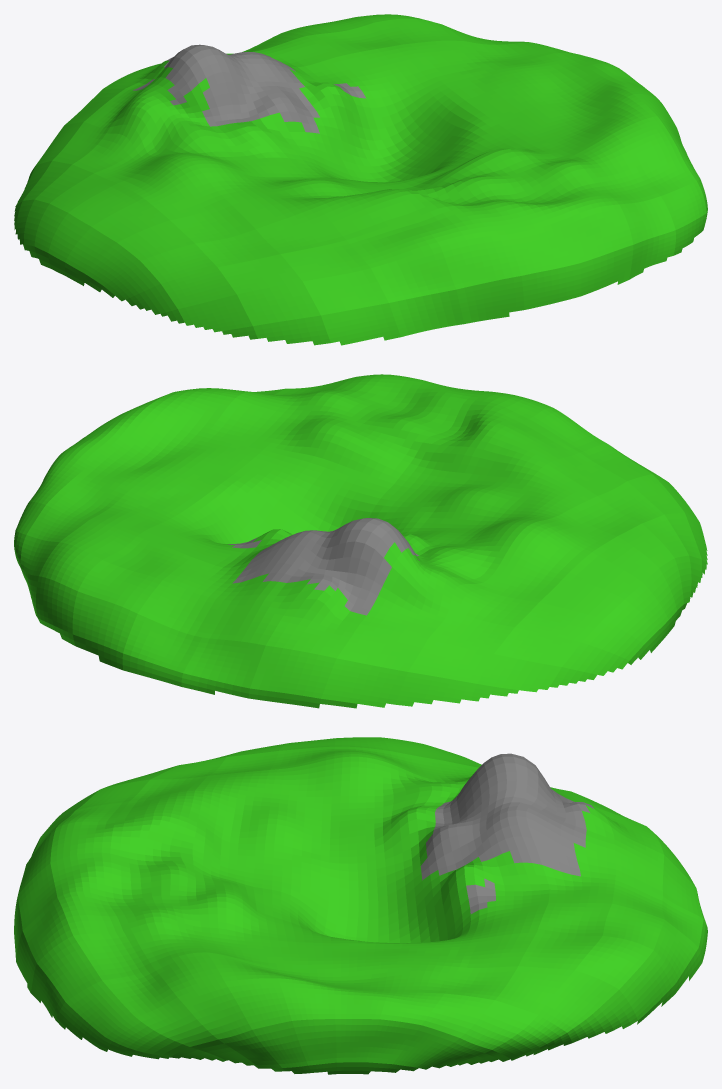
Rendered from topworld.fbx.
3 views of the same model, one above another, from view 1: azimuth 30°, elevation 25°; view 2: azimuth 150°, elevation 25°; view 3: azimuth 270°, elevation 25° (orthographic). The views are drawn at different scales.
Visible parts, largest first — view 1: Sphere.002; view 2: Sphere.002; view 3: Sphere.002.
Part boxes in pixels (box(x1,y1,x2,y2)): Sphere.002: box(14, 14, 707, 345); Sphere.002: box(14, 374, 707, 708); Sphere.002: box(14, 737, 707, 1074).
Bounding box in the file's own units: 3010 × 596 × 2885.
